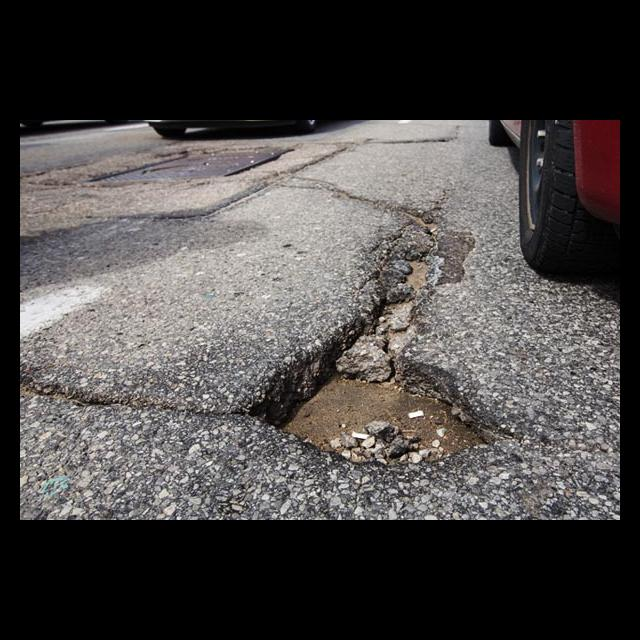lubang_kecil: (235, 326, 536, 484)
retak_memanjang: (294, 177, 452, 319), (20, 356, 237, 436)
